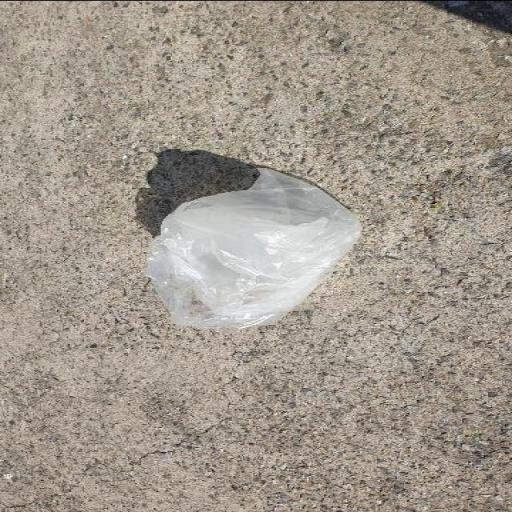plastic-bag: (134, 163, 366, 333)
